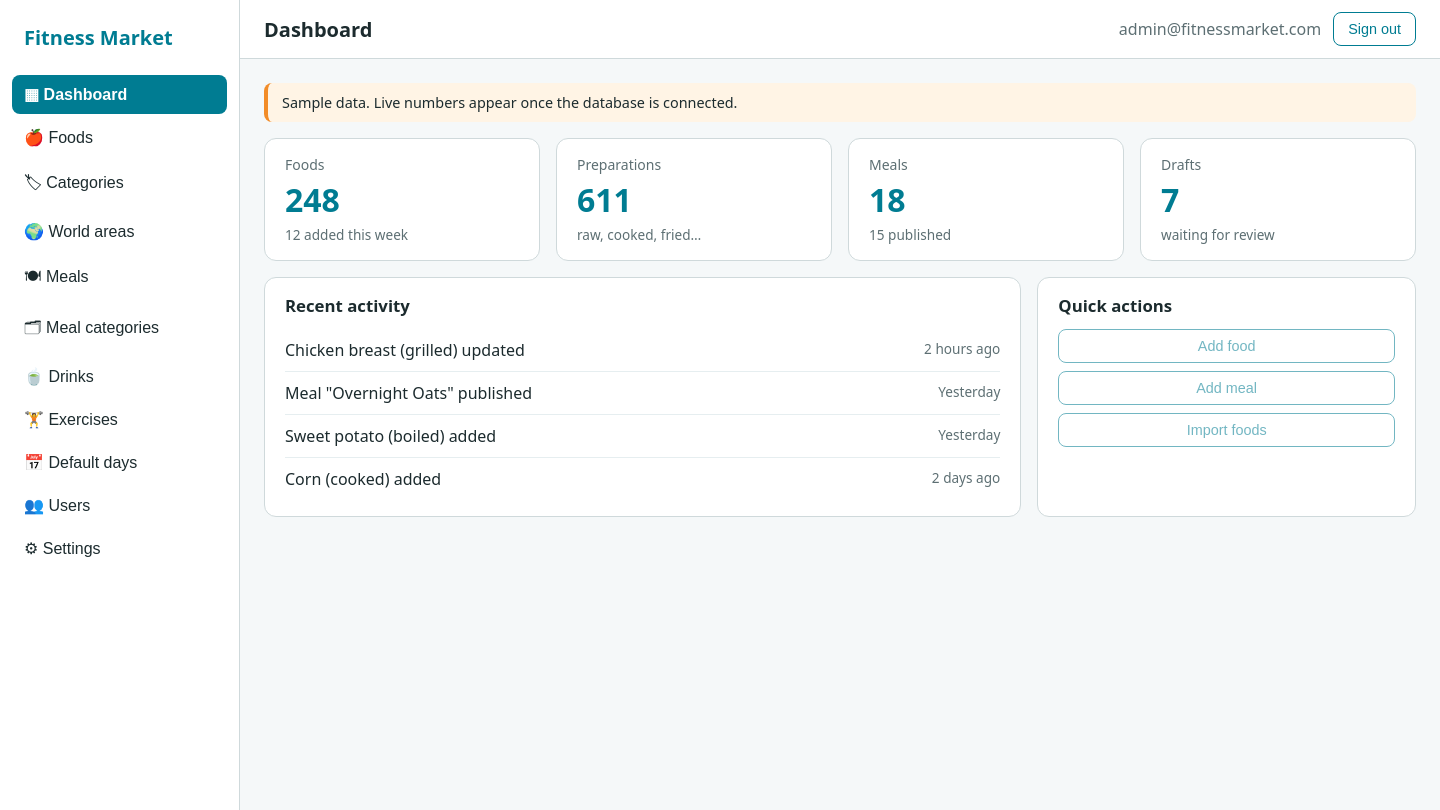
Test: App › menu button toggles the navigation and sections switch
Earlier steps of the test are not shown.
Click the button "👥 Users". click: [120, 506]
box: [12, 486, 227, 525]
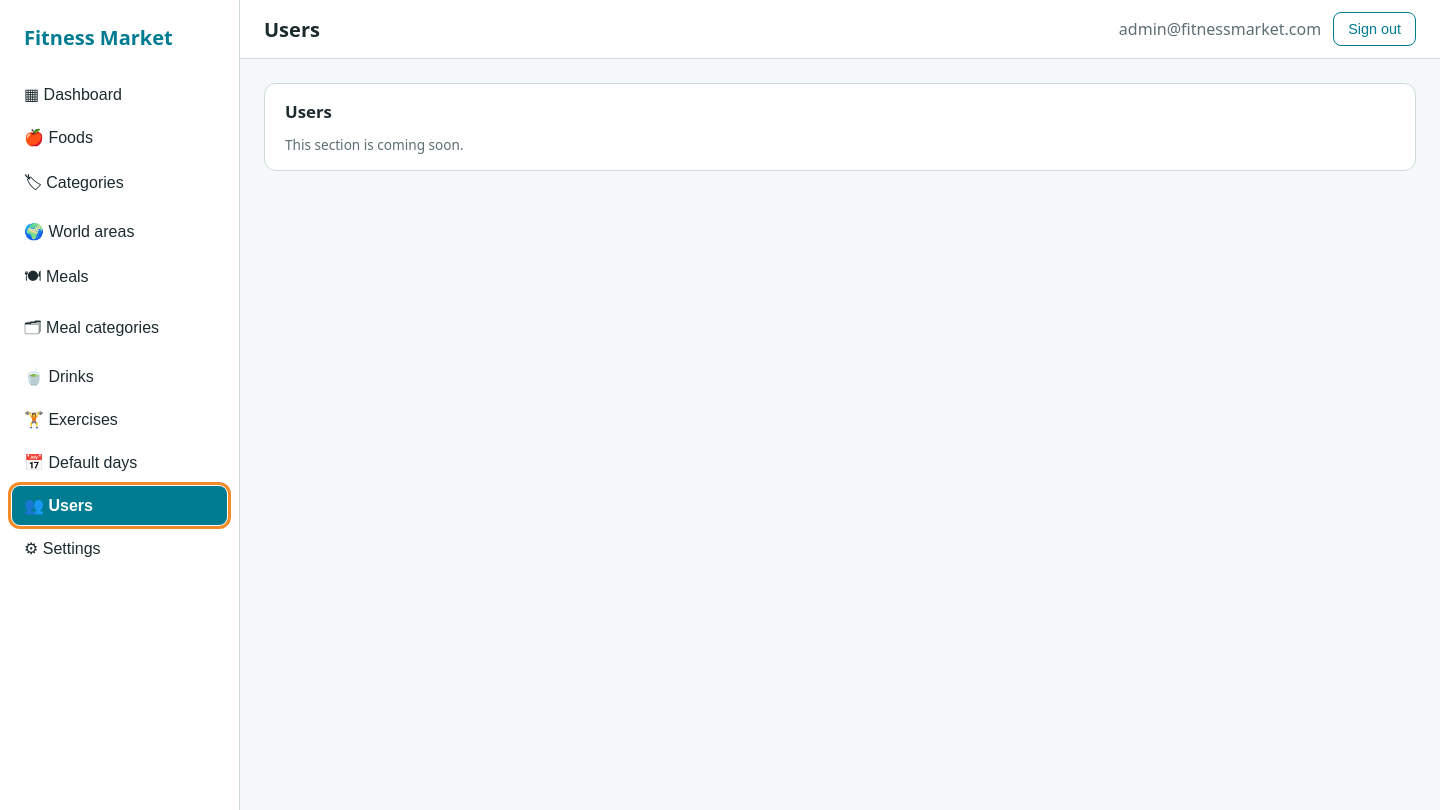
Expected: the text "This section is coming soon." is shown, [285, 135, 464, 154]
